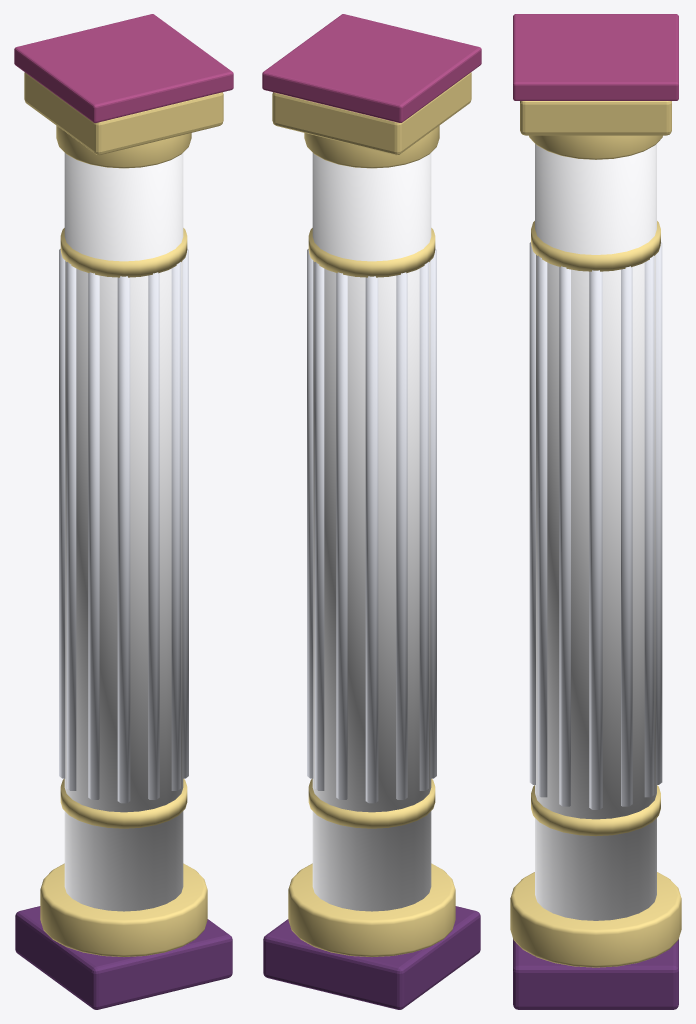
File: pc_column.glb
The picture shows the model from 3 angles, left to right: view 1: azimuth 30°, elevation 25°; view 2: azimuth 150°, elevation 25°; view 3: azimuth 270°, elevation 25°; orthographic projection. The views are drawn at different scales.
Parts seen in each view (by area): view 1: pc_column; view 2: pc_column; view 3: pc_column.
Part boxes in pixels (x1,y1,x2,y2): pc_column: [14, 14, 233, 1009]; pc_column: [262, 14, 481, 1009]; pc_column: [510, 14, 681, 1009].
Size of the model in its own units: 1.24 by 7.4 by 1.24.
